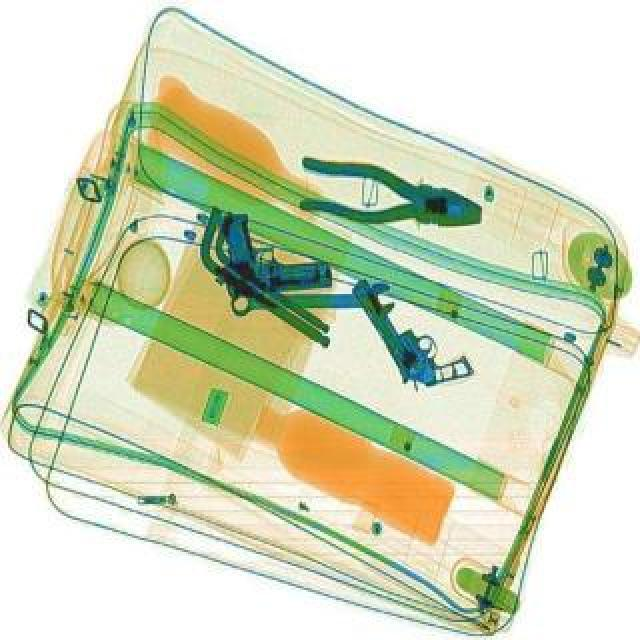gun: (344, 254, 476, 402), (208, 206, 332, 298)
scissors: (228, 280, 396, 320)
wrench: (292, 152, 488, 238)
